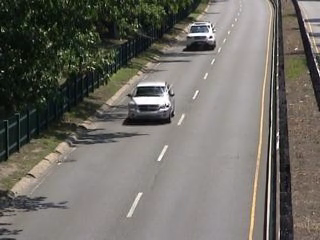car: (124, 78, 180, 126), (182, 21, 220, 52)
